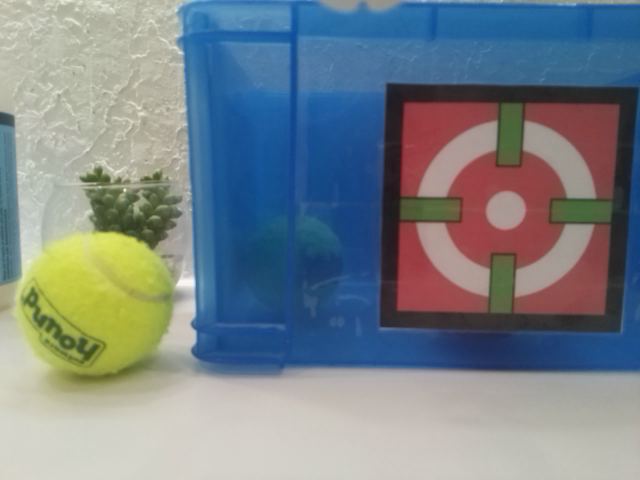drop-bin: (379, 82, 640, 334)
yellow-ball: (14, 230, 175, 379)
